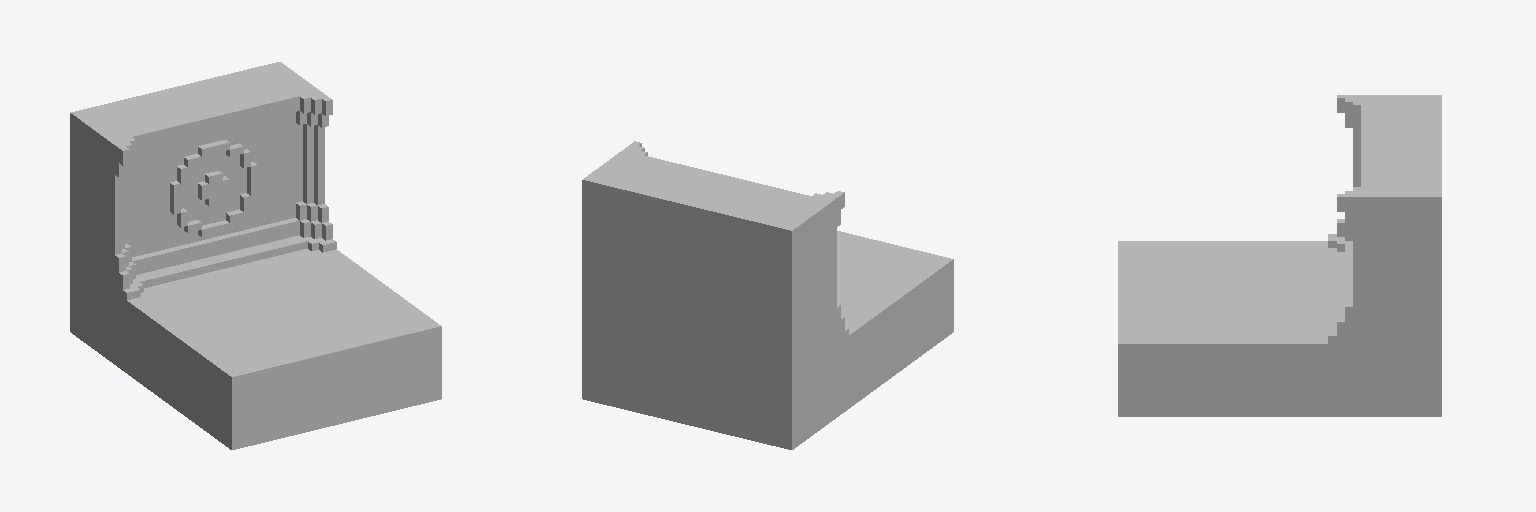
File: wall2.obj
3 views of the same model, side by side, from view 1: azimuth 30°, elevation 25°; view 2: azimuth 150°, elevation 25°; view 3: azimuth 270°, elevation 25° (orthographic).
Size of the model in its own units: 30 by 30 by 40.